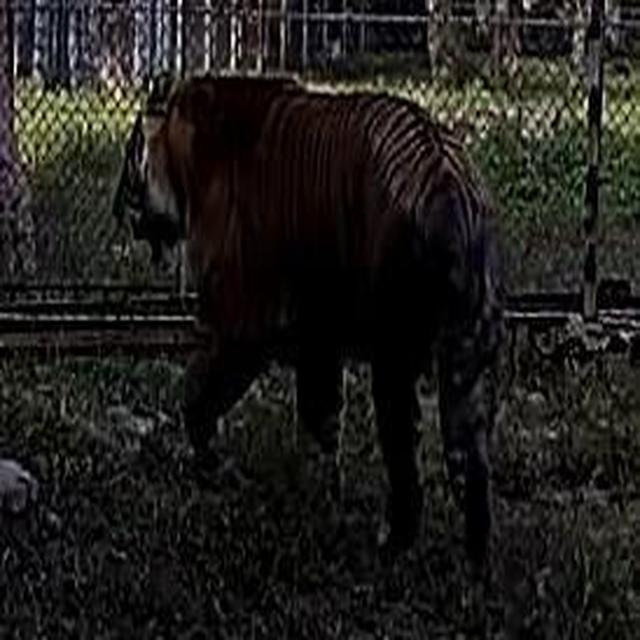tiger: (118, 70, 512, 569)
